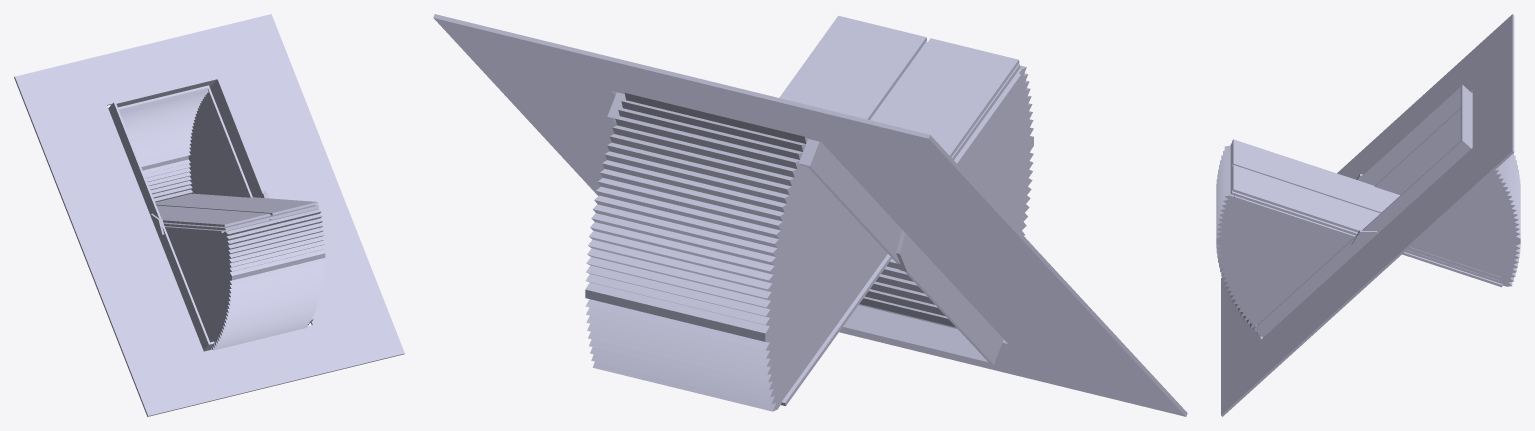
The model's file is RoofDock_-20deg.glb.
The picture shows the model from 3 angles, left to right: view 1: azimuth 30°, elevation 25°; view 2: azimuth 150°, elevation 25°; view 3: azimuth 270°, elevation 25°; orthographic projection. The views are drawn at different scales.
Visible parts, largest first — view 1: copy_Body021, copy_Body023, copy_Body022, copy_Body, copy_LinkGroup004, copy_LinkGroup003; view 2: copy_Body022, copy_Body021, copy_LinkGroup004, copy_Body, copy_Body023, copy_LinkGroup003, copy_Body002; view 3: copy_Body021, copy_Body023, copy_Body022, copy_LinkGroup004, copy_Body, copy_LinkGroup003, copy_Body001.
Part boxes in pixels (bbox=[...]): copy_Body021: bbox=[14, 14, 404, 416]; copy_Body023: bbox=[166, 209, 325, 350]; copy_Body022: bbox=[118, 85, 252, 202]; copy_Body: bbox=[108, 77, 313, 351]; copy_LinkGroup004: bbox=[155, 193, 318, 230]; copy_LinkGroup003: bbox=[164, 208, 318, 233]; copy_Body022: bbox=[585, 93, 887, 411]; copy_Body021: bbox=[433, 14, 1187, 416]; copy_LinkGroup004: bbox=[779, 15, 1020, 159]; copy_Body: bbox=[607, 92, 1003, 364]; copy_Body023: bbox=[859, 65, 1033, 328]; copy_LinkGroup003: bbox=[781, 73, 1021, 406]; copy_Body002: bbox=[896, 229, 924, 271]; copy_Body021: bbox=[1221, 14, 1514, 416]; copy_Body023: bbox=[1216, 145, 1352, 335]; copy_Body022: bbox=[1374, 108, 1520, 286]; copy_LinkGroup004: bbox=[1230, 139, 1500, 282]; copy_Body: bbox=[1254, 84, 1472, 337]; copy_LinkGroup003: bbox=[1234, 196, 1502, 287]; copy_Body001: bbox=[1351, 230, 1377, 252].
Size of the model in its own units: 1.68 by 1.52 by 1.57.
